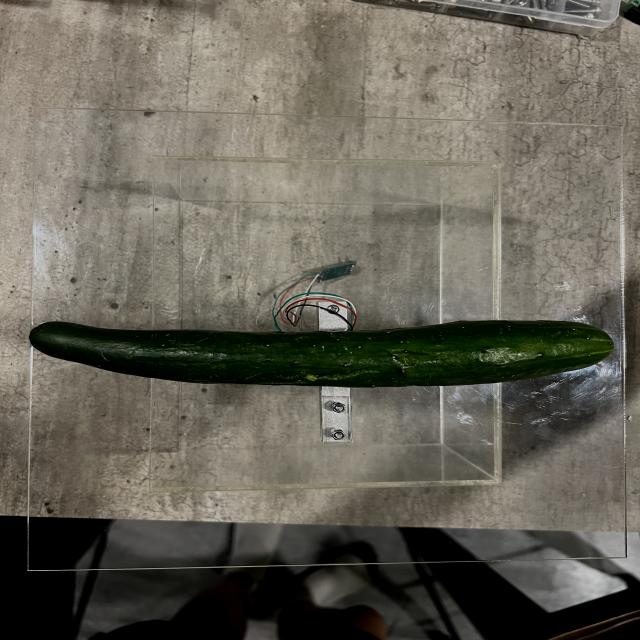cucumber: (26, 318, 617, 389)
